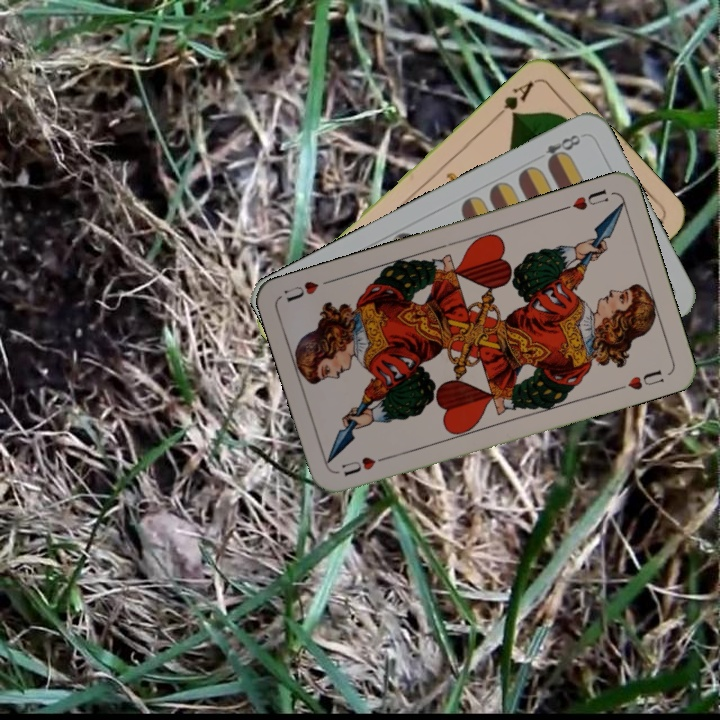E8: (541, 130, 583, 168)
GA: (490, 77, 537, 123)
HU: (337, 451, 393, 479), (557, 185, 611, 214)
